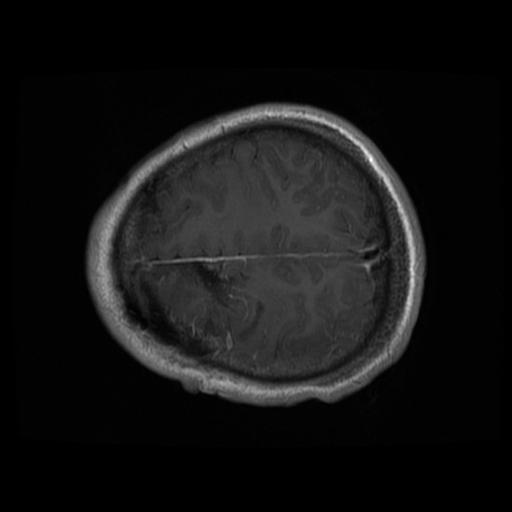glioma: (138, 259, 242, 356)
